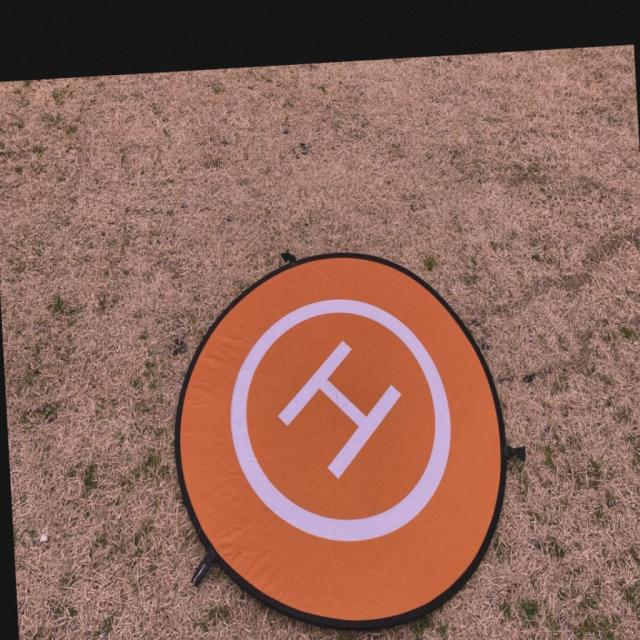helipad: (224, 293, 458, 548)
